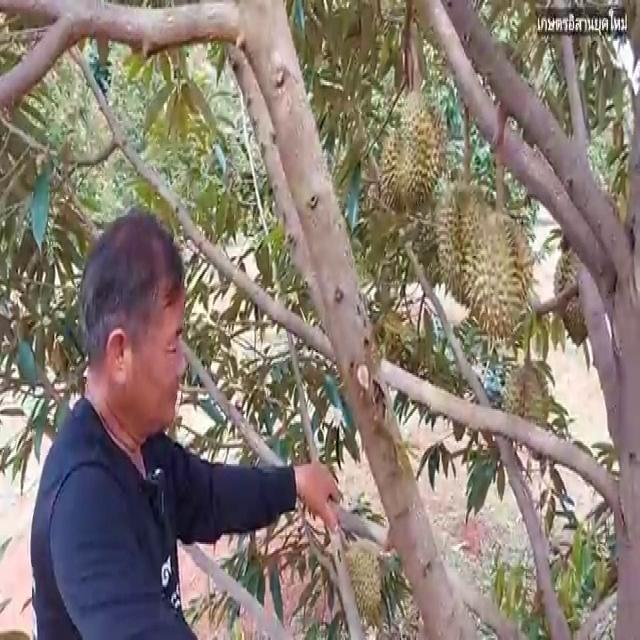durian: (462, 204, 537, 346), (435, 168, 503, 305), (378, 85, 449, 216), (552, 227, 606, 351), (493, 356, 554, 462)
